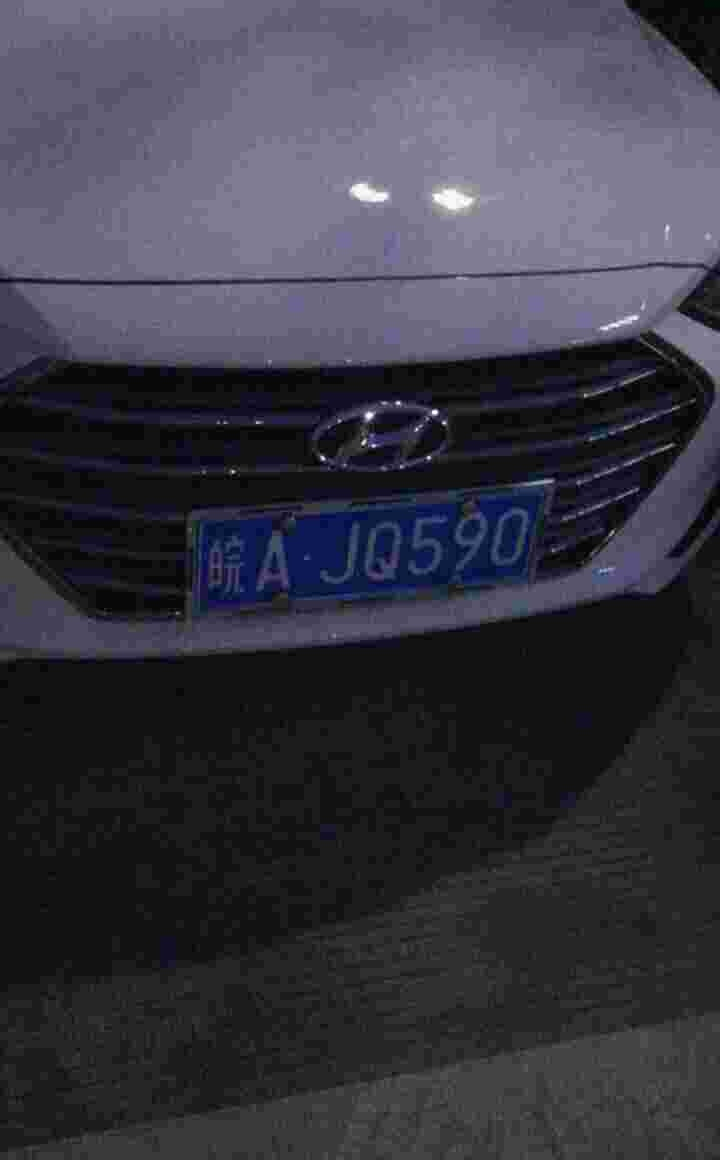license_plate: (173, 497, 549, 613)
